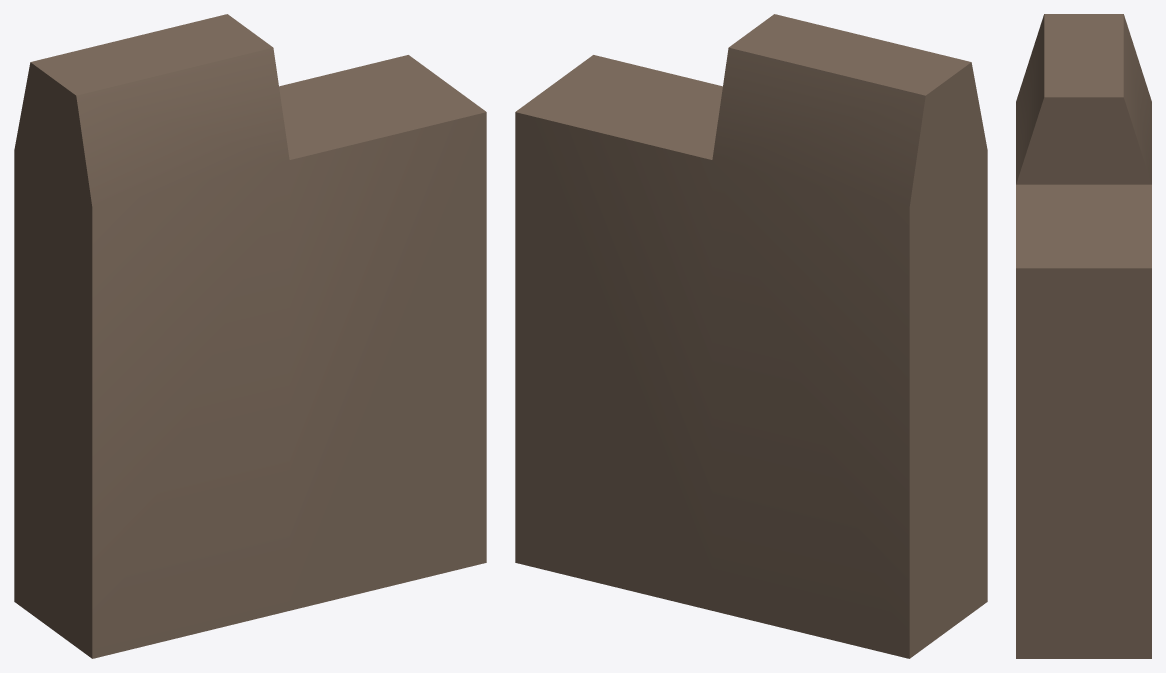
File: house_wall_destruction.FBX
3 views of the same model, side by side, from view 1: azimuth 30°, elevation 25°; view 2: azimuth 150°, elevation 25°; view 3: azimuth 270°, elevation 25° (orthographic). The views are drawn at different scales.
Visible parts, largest first — view 1: Box001; view 2: Box001; view 3: Box001.
Boxes of the visible parts, <box> form: Box001: <box>14,14,486,658</box>; Box001: <box>515,14,987,658</box>; Box001: <box>1016,14,1151,658</box>.
Bounding box in the file's own units: 67.87 × 90.69 × 23.33.
